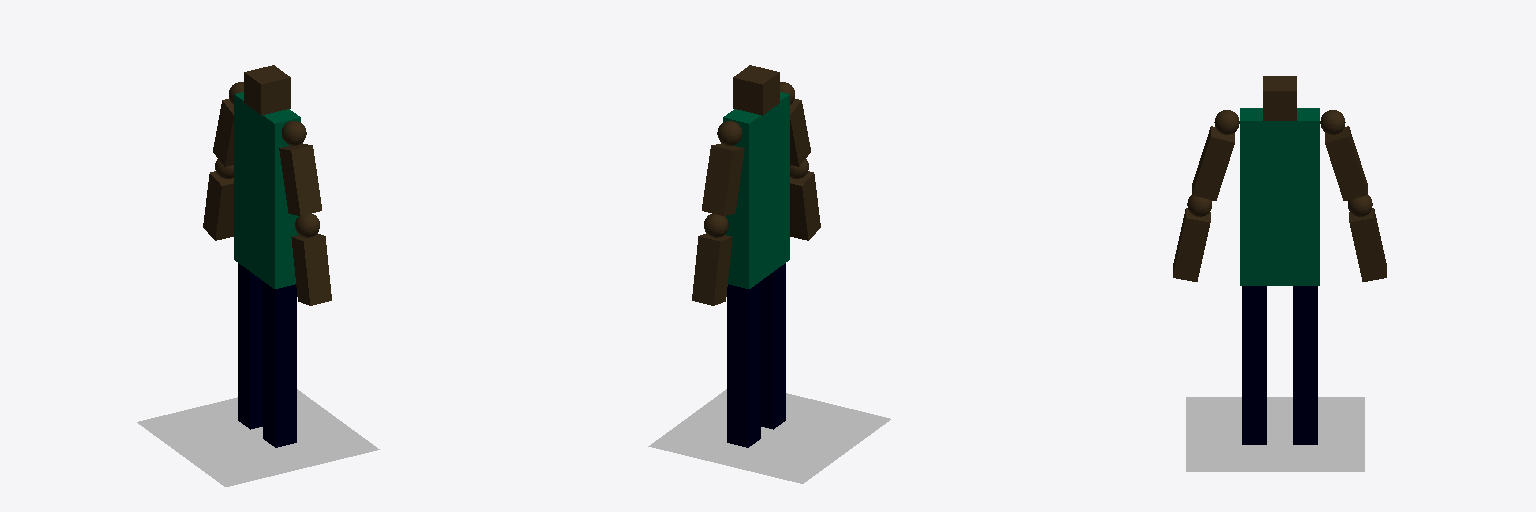
Rendered from body.obj.
3 views of the same model, side by side, from view 1: azimuth 30°, elevation 25°; view 2: azimuth 150°, elevation 25°; view 3: azimuth 270°, elevation 25° (orthographic).
Visible parts, largest first — view 1: Plane, Body_Cube.001, LLeg_Cube.002, RLeg_Cube.003, LUpperArm_Cube.004, LLowerArm_Cube.006, Head_Cube, RLowerArm_Cube.007, RUpperArm_Cube.005; view 2: Plane, Body_Cube.001, RLeg_Cube.003, LLeg_Cube.002, RUpperArm_Cube.005, RLowerArm_Cube.007, Head_Cube, LLowerArm_Cube.006, LUpperArm_Cube.004; view 3: Body_Cube.001, Plane, LLeg_Cube.002, RLeg_Cube.003, LUpperArm_Cube.004, RUpperArm_Cube.005, LLowerArm_Cube.006, RLowerArm_Cube.007, Head_Cube.
Boxes of the visible parts, box(x1,y1,x2,y2) form: Plane: box(137, 389, 379, 486); Body_Cube.001: box(234, 92, 300, 288); LLeg_Cube.002: box(263, 281, 296, 447); RLeg_Cube.003: box(238, 263, 262, 429); LUpperArm_Cube.004: box(279, 143, 321, 215); LLowerArm_Cube.006: box(291, 233, 331, 305); Head_Cube: box(244, 65, 290, 115); RLowerArm_Cube.007: box(203, 171, 233, 240); RUpperArm_Cube.005: box(213, 99, 233, 166); Plane: box(648, 389, 890, 483); Body_Cube.001: box(723, 92, 789, 288); RLeg_Cube.003: box(727, 281, 760, 447); LLeg_Cube.002: box(761, 263, 785, 429); RUpperArm_Cube.005: box(702, 143, 744, 215); RLowerArm_Cube.007: box(692, 233, 732, 305); Head_Cube: box(733, 65, 779, 115); LLowerArm_Cube.006: box(790, 171, 820, 240); LUpperArm_Cube.004: box(790, 99, 810, 166); Body_Cube.001: box(1240, 108, 1319, 285); Plane: box(1186, 397, 1364, 471); LLeg_Cube.002: box(1242, 286, 1266, 444); RLeg_Cube.003: box(1293, 286, 1317, 444); LUpperArm_Cube.004: box(1192, 126, 1234, 200); RUpperArm_Cube.005: box(1325, 126, 1367, 200); LLowerArm_Cube.006: box(1173, 208, 1210, 281); RLowerArm_Cube.007: box(1349, 208, 1386, 281); Head_Cube: box(1263, 76, 1296, 120).
Bounding box in the file's own units: 2 × 4.41 × 2.41.